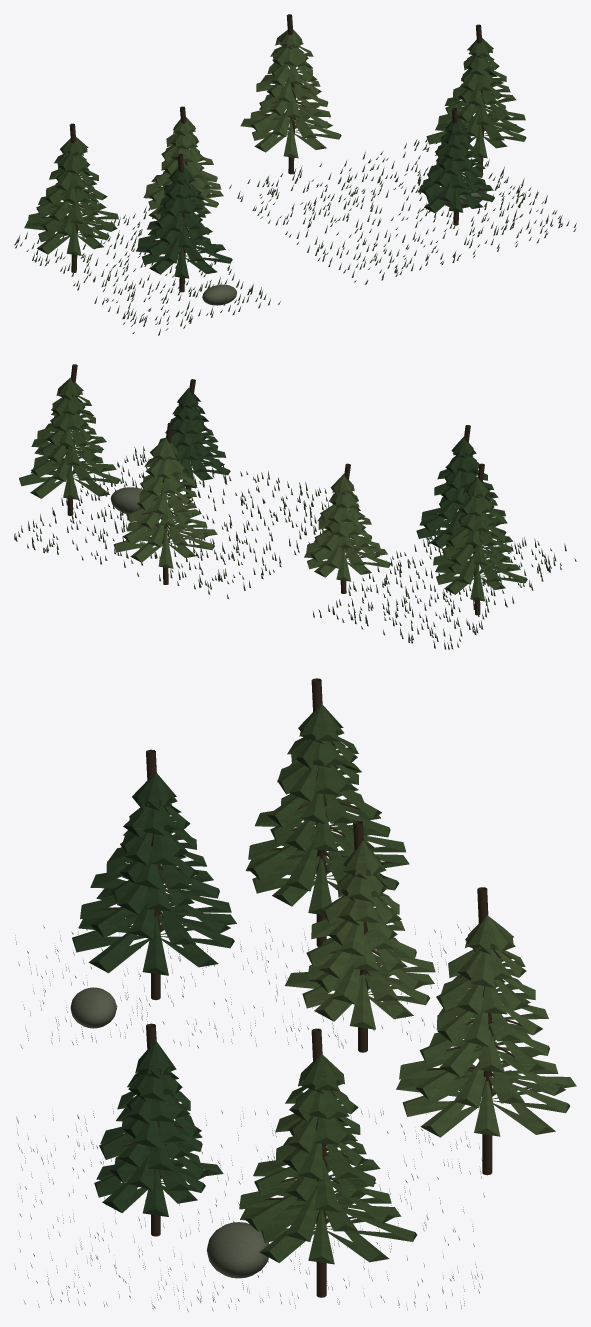
Rendered from woodland-glade-v1.glb.
3 renders of one model, top to bottom at view 1: azimuth 30°, elevation 25°; view 2: azimuth 150°, elevation 25°; view 3: azimuth 270°, elevation 25°, orthographic. The views are drawn at different scales.
Parts seen in each view (by area): view 1: Grass blades, Pine canopy.005, Pine canopy.001, Pine canopy, Pine canopy.004, Pine canopy.003, Pine canopy.002, Verge boulder, Tapered trunk.005; view 2: Grass blades, Pine canopy.005, Pine canopy.004, Pine canopy.001, Pine canopy.002, Pine canopy, Pine canopy.003, Verge boulder, Tapered trunk.005; view 3: Pine canopy.005, Pine canopy.004, Pine canopy, Pine canopy.001, Pine canopy.002, Pine canopy.003, Verge boulder, Grass blades, Tapered trunk.005, Tapered trunk.004, Tapered trunk.001, Tapered trunk.
Boxes of the visible parts, box(x1,y1,x2,y2) form: Grass blades: box(14, 139, 576, 335); Pine canopy.005: box(240, 29, 341, 158); Pine canopy.001: box(24, 137, 118, 255); Pine canopy: box(136, 166, 232, 278); Pine canopy.004: box(426, 38, 526, 158); Pine canopy.003: box(418, 117, 494, 213); Pine canopy.002: box(143, 117, 223, 219); Verge boulder: box(202, 181, 486, 305); Tapered trunk.005: box(263, 14, 316, 174); Grass blades: box(14, 446, 576, 649); Pine canopy.005: box(113, 438, 217, 568); Pine canopy.004: box(19, 377, 119, 499); Pine canopy.001: box(433, 477, 527, 601); Pine canopy.002: box(304, 474, 390, 581); Pine canopy: box(416, 436, 507, 551); Pine canopy.003: box(153, 388, 230, 488); Verge boulder: box(110, 487, 451, 546); Tapered trunk.005: box(139, 422, 206, 584); Pine canopy.005: box(396, 915, 576, 1137); Pine canopy.004: box(239, 1053, 417, 1264); Pine canopy: box(72, 772, 236, 975); Pine canopy.001: box(245, 703, 409, 914); Pine canopy.002: box(285, 840, 435, 1029); Pine canopy.003: box(94, 1040, 223, 1216); Verge boulder: box(70, 987, 268, 1278); Grass blades: box(14, 924, 484, 1311); Tapered trunk.005: box(426, 887, 558, 1175); Tapered trunk.004: box(264, 1028, 356, 1297); Tapered trunk.001: box(270, 678, 391, 946); Tapered trunk: box(103, 749, 220, 1000).
Size of what is drawn, in the model's own units: 24.02 by 7.79 by 13.59.
6 materials, 6 textured.
